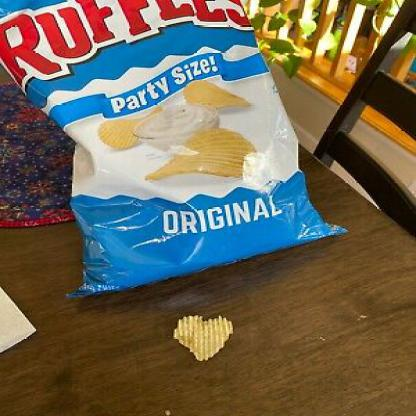potatochip: (0, 0, 356, 301)
